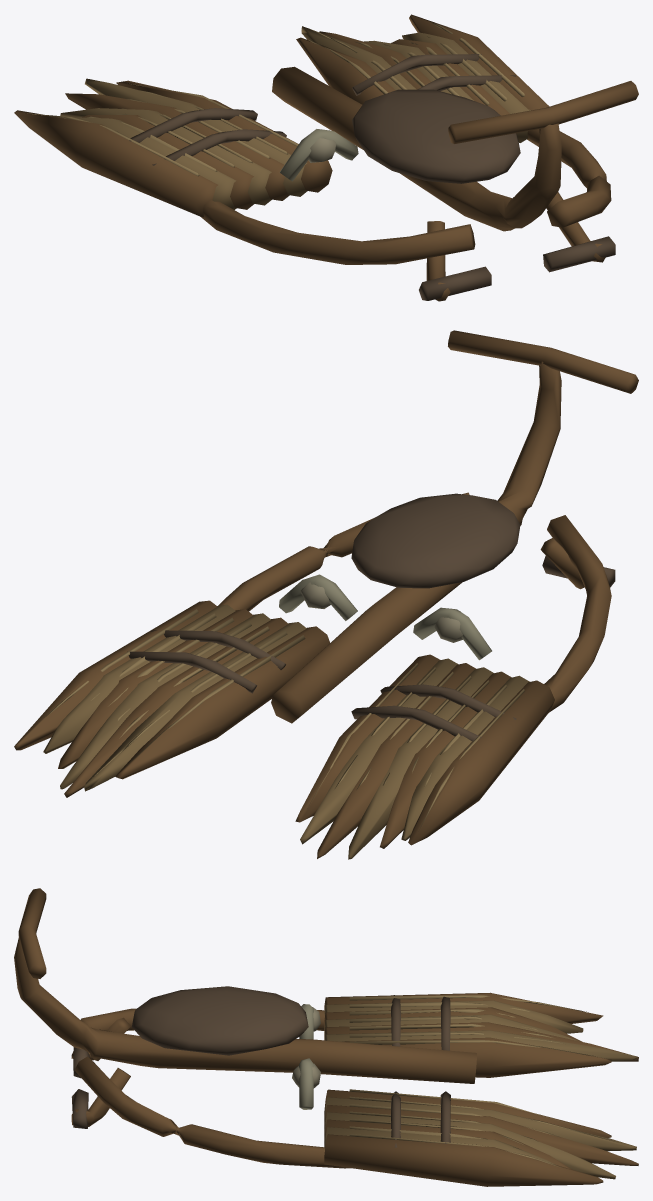
Rendered from GRAUSEL_BROOM_GLIDER.lo.glb.
The picture shows the model from 3 angles, top to bottom: view 1: azimuth 30°, elevation 25°; view 2: azimuth 150°, elevation 25°; view 3: azimuth 270°, elevation 25°; orthographic projection. The views are drawn at different scales.
Visible parts, largest first — view 1: GRAUSEL_BROOM_GLIDER_lo; view 2: GRAUSEL_BROOM_GLIDER_lo; view 3: GRAUSEL_BROOM_GLIDER_lo.
Part boxes in pixels (x1=…): GRAUSEL_BROOM_GLIDER_lo: x1=14, y1=14, x2=638, y2=301; GRAUSEL_BROOM_GLIDER_lo: x1=14, y1=330, x2=638, y2=859; GRAUSEL_BROOM_GLIDER_lo: x1=14, y1=888, x2=638, y2=1186.
Bounding box in the file's own units: 1.23 × 0.6422 × 1.88.
